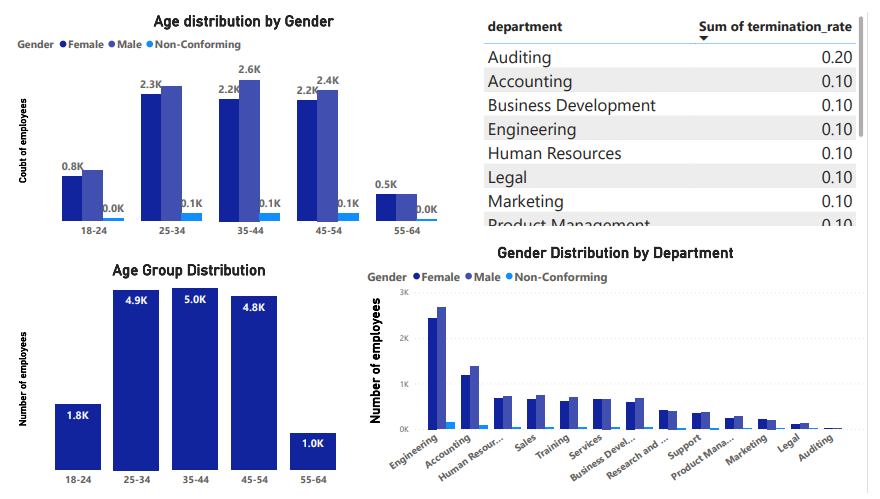

This screenshot's page, from the dashboard's own definition file:
{"tool":"powerbi","page":{"name":"Page 2","canvas":[1280,720],"ordinal":1},"visuals":[{"type":"columnChart","title":"Age Group Distribution","fields":{"Category":["age_group.age_group"],"Y":["Sum(age_group.count)"]},"box":[0,373.2,525.4,346.8],"z":0},{"type":"clusteredColumnChart","title":"Age distribution by Gender","fields":{"Category":["age_group by gender distribution.age_group"],"Y":["Sum(age_group by gender distribution.count)"],"Series":["age_group by gender distribution.gender"]},"box":[0,0,689,347],"z":1000},{"type":"tableEx","fields":{"Values":["highest turnover rate.department","Sum(highest turnover rate.termination_rate)"]},"box":[699.5,0,581,324.9],"z":2000},{"type":"clusteredColumnChart","title":"Gender Distribution by Department","fields":{"Series":["gender distribution in respect with department and job title.gender"],"Category":["gender distribution in respect with department and job title.department"],"Y":["Sum(gender distribution in respect with department and job title.count)"]},"box":[525.4,346.8,755.1,373.2],"z":3000}]}

Visuals, with their boxes in screenshot pixels (x1, y1, x2, y2), scaled from the page's 1280x720 canvas onto the 880x499 screenshot:
"Age Group Distribution" columnChart: [x1=0, y1=259, x2=361, y2=498]
"Age distribution by Gender" clusteredColumnChart: [x1=0, y1=0, x2=474, y2=240]
tableEx - highest turnover rate.department x Sum(highest turnover rate.termination_rate): [x1=481, y1=0, x2=879, y2=225]
"Gender Distribution by Department" clusteredColumnChart: [x1=361, y1=240, x2=879, y2=498]
